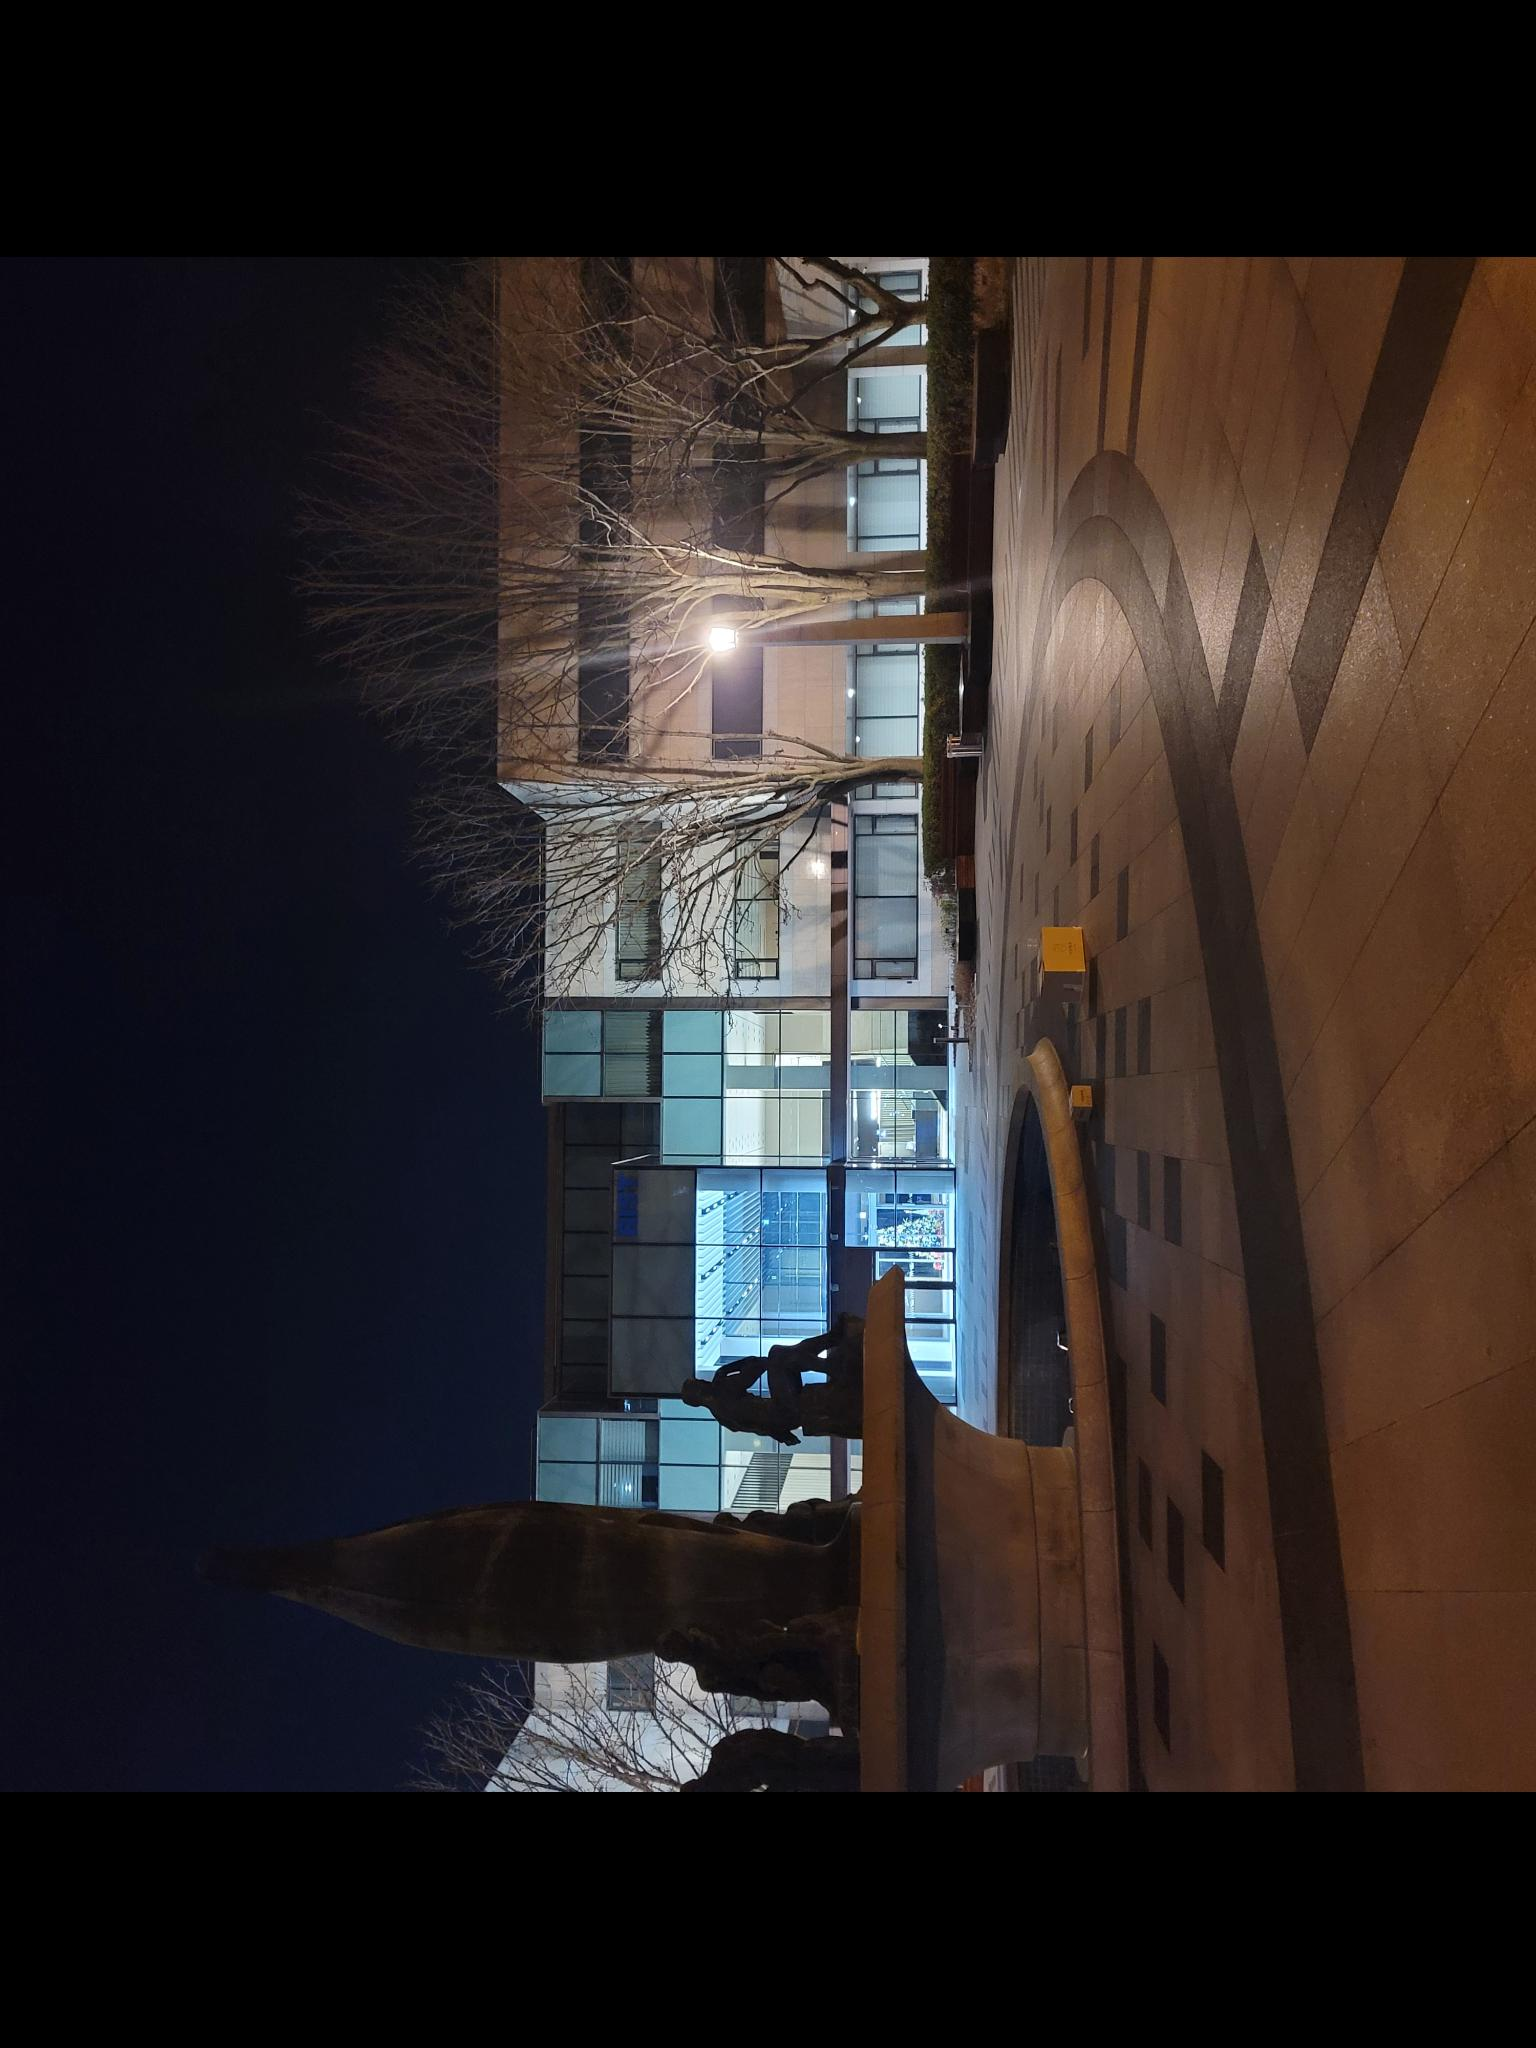Box: (1031, 919, 1092, 997), (1058, 1080, 1099, 1127)
